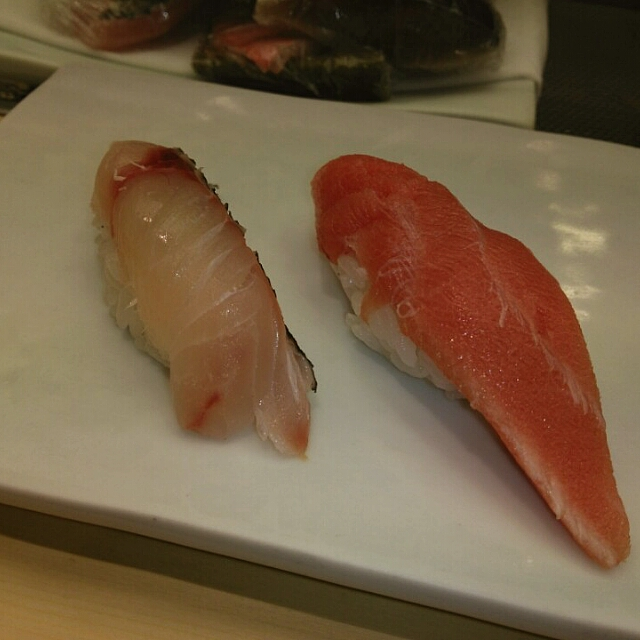medium_fatty_tuna: (317, 154, 632, 572)
